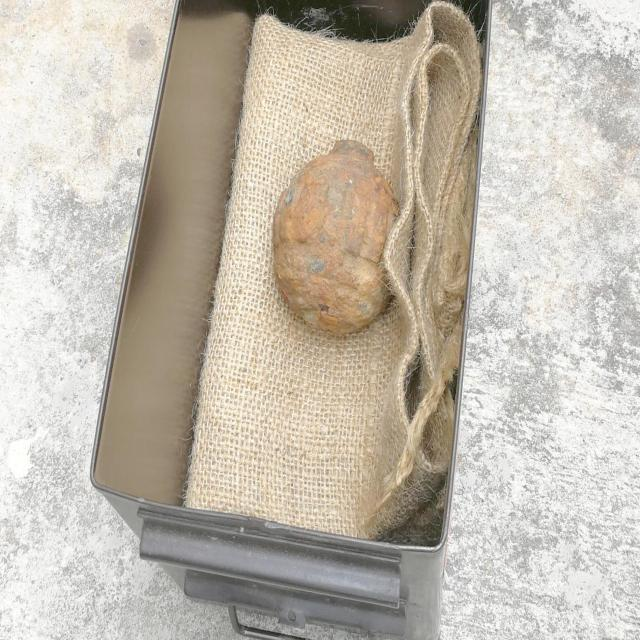grenade: (272, 140, 405, 339)
